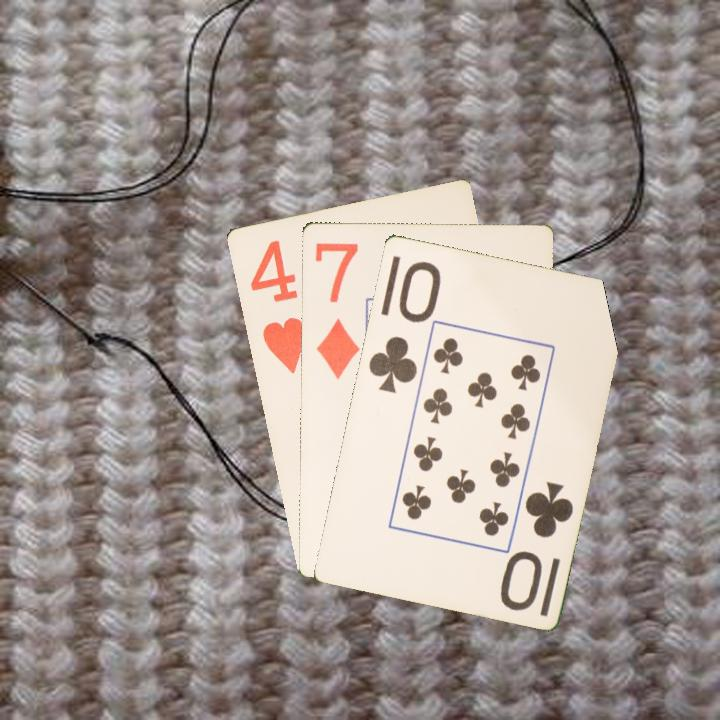10c: (364, 257, 442, 396), (499, 477, 576, 613)
4h: (246, 236, 308, 376)
7d: (311, 238, 362, 382)
